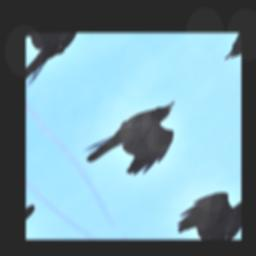Crow: (79, 85, 199, 198)
